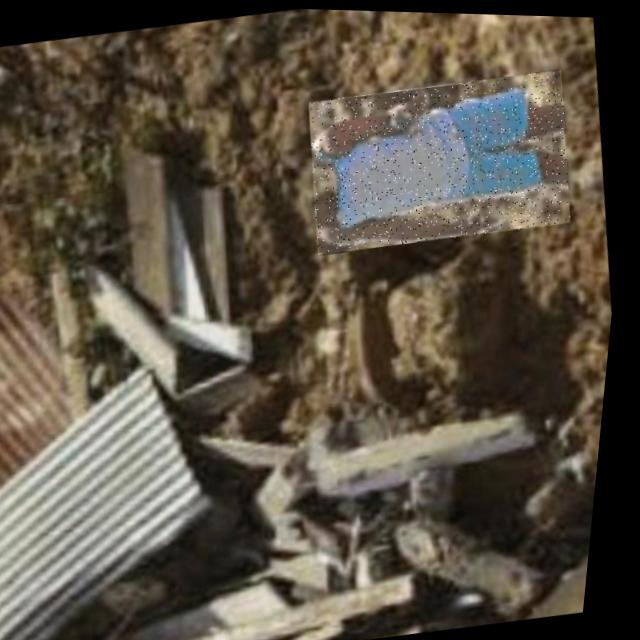Person in Rubble: (299, 59, 586, 258)
